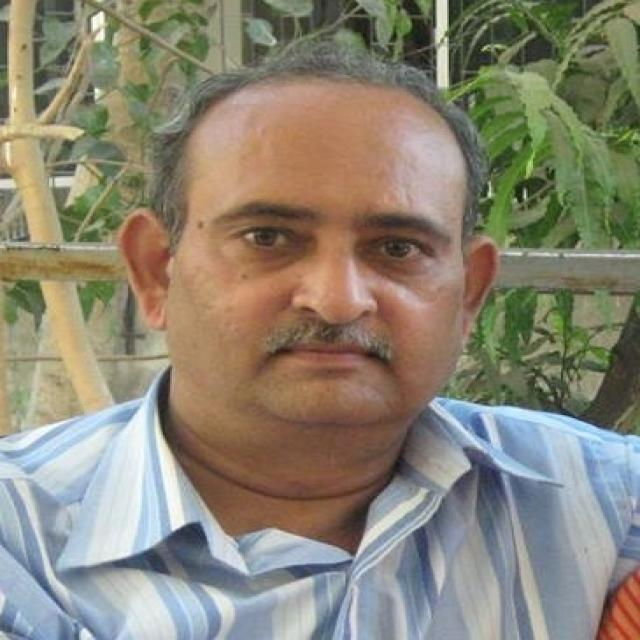Nonhelmet: (104, 30, 514, 450)
